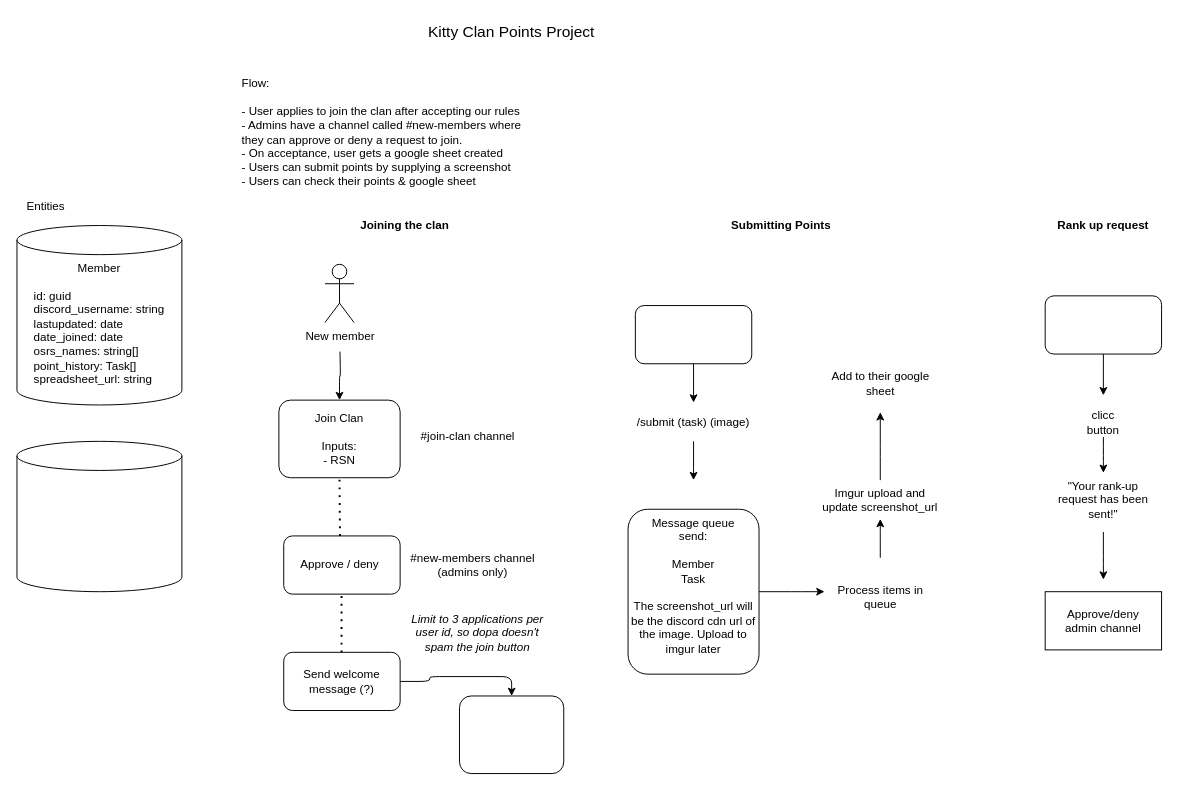
Image size: 1179x791. Some labels were removed from this diagram. Here are the shapes that lost their labels. From the top down, the centre of each, then its label:
At [693,334]: "Submit points channel".
At [1103,324]: "Rank up request channel".
At [99,516]: "Task id: guid screenshot_url: string date_achieved: date point_amount: int".
At [511,734]: "Create their google sheet".
